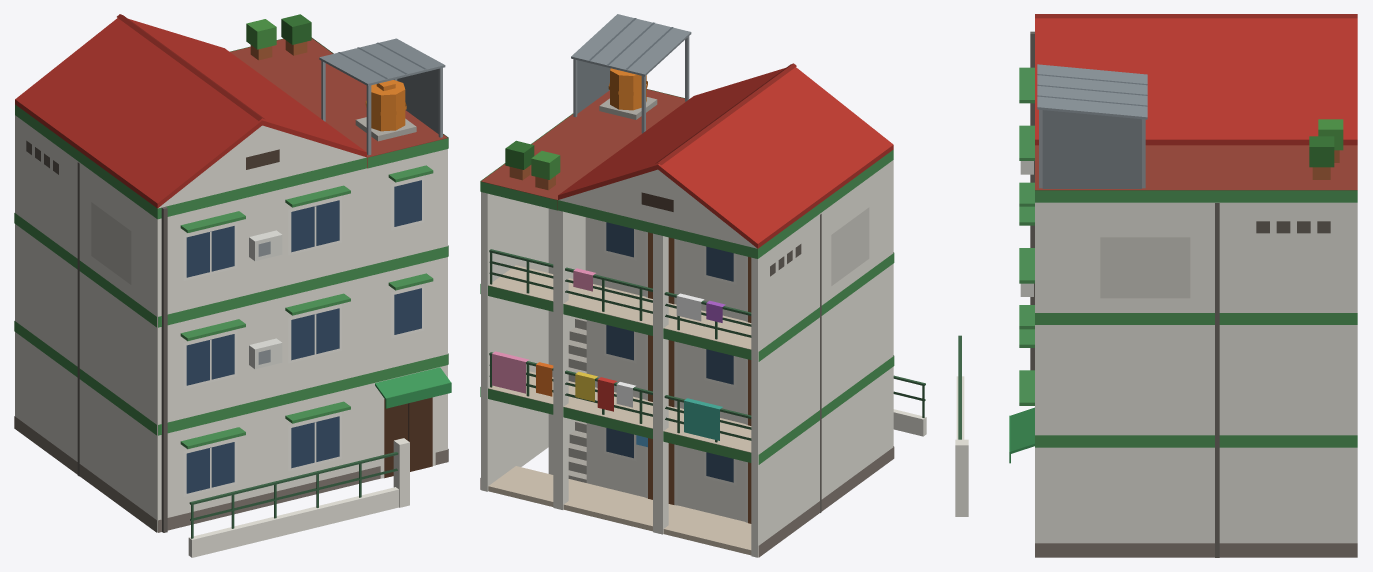
Rendered from kos_07.glb.
The picture shows the model from 3 angles, left to right: view 1: azimuth 30°, elevation 25°; view 2: azimuth 150°, elevation 25°; view 3: azimuth 270°, elevation 25°; orthographic projection. The views are drawn at different scales.
Visible parts, largest first — view 1: kos_07; view 2: kos_07; view 3: kos_07.
Boxes of the visible parts, box(x1,y1,x2,y2) form: kos_07: box(14, 14, 451, 557); kos_07: box(480, 14, 926, 557); kos_07: box(955, 14, 1357, 557).
Bounding box in the file's own units: 8.51 × 11.02 × 8.96.
